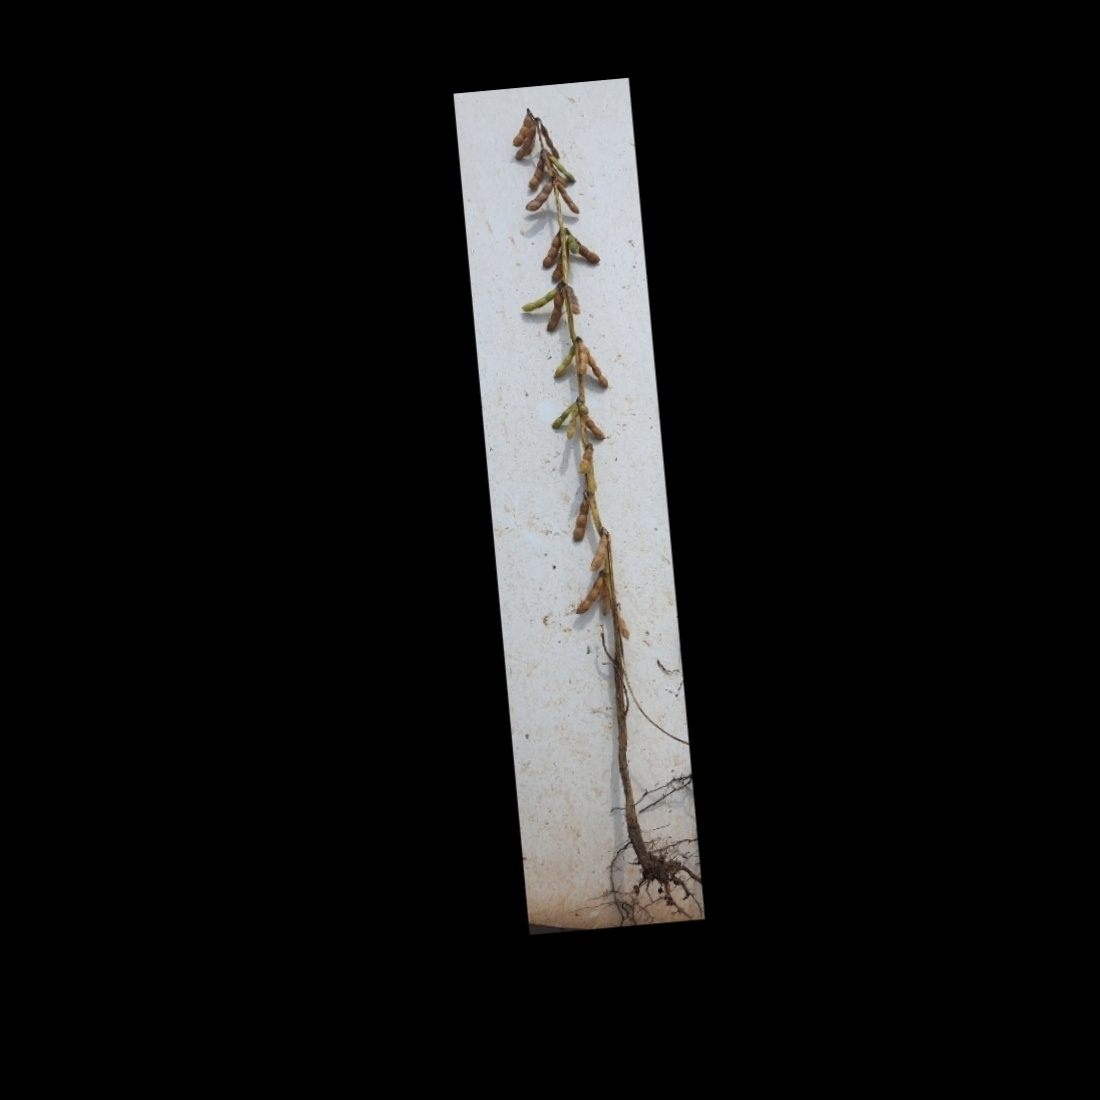pod: (570, 577, 606, 618), (518, 283, 564, 311), (532, 229, 563, 269), (568, 494, 592, 545), (519, 181, 557, 214), (542, 291, 569, 335), (586, 347, 610, 393), (549, 342, 578, 381), (585, 531, 611, 573), (555, 184, 583, 219), (524, 152, 548, 190), (537, 120, 559, 161), (550, 153, 576, 184), (563, 407, 585, 441), (584, 410, 607, 442), (615, 614, 633, 643)
soy: (477, 98, 685, 914)
